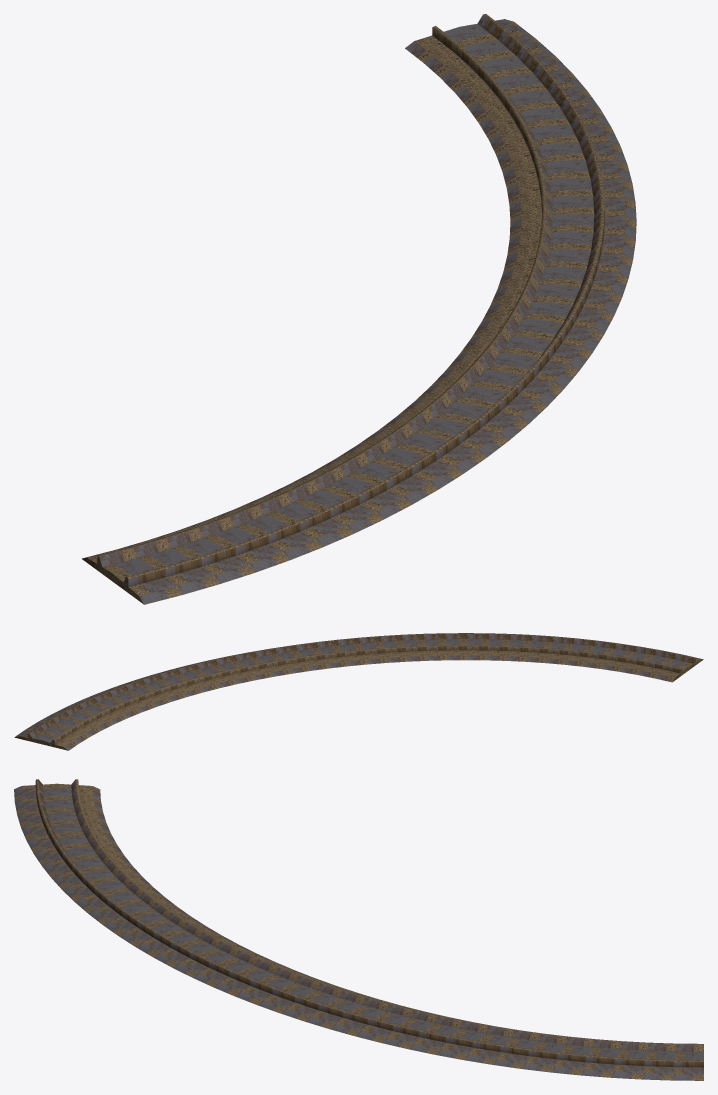
Rendered from Rail turn 90_LOD2.fbx.
3 views of the same model, one above another, from view 1: azimuth 30°, elevation 25°; view 2: azimuth 150°, elevation 25°; view 3: azimuth 270°, elevation 25° (orthographic). The views are drawn at different scales.
Parts seen in each view (by area): view 1: Rail_turn_90_LOD2; view 2: Rail_turn_90_LOD2; view 3: Rail_turn_90_LOD2.
Boxes of the visible parts, bbox=[...] form: Rail_turn_90_LOD2: bbox=[82, 14, 636, 604]; Rail_turn_90_LOD2: bbox=[14, 633, 703, 750]; Rail_turn_90_LOD2: bbox=[14, 779, 703, 1080].
Bounding box in the file's own units: 800 × 13.15 × 800.
1 material, 1 textured.
